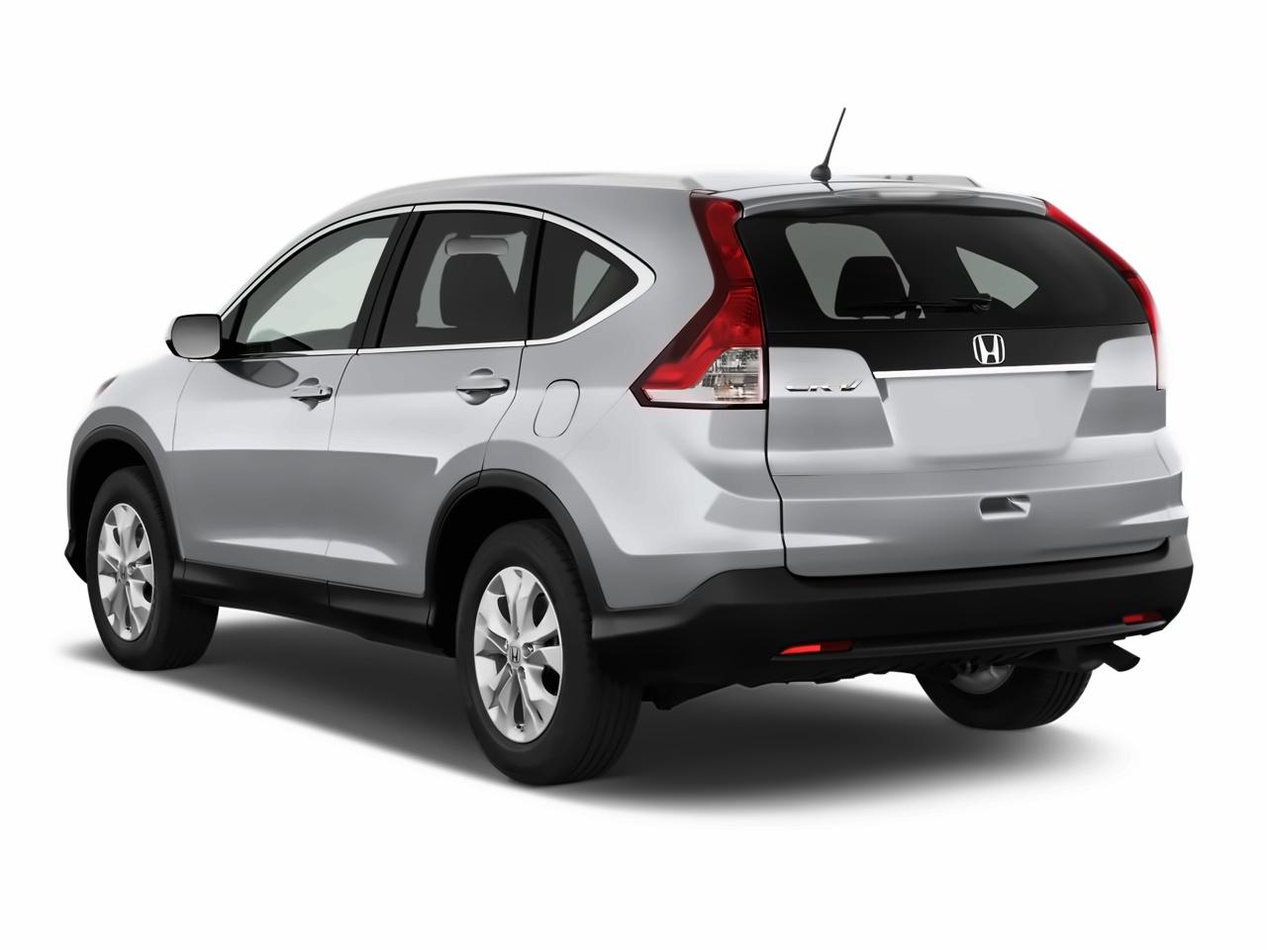Car boot: (735, 188, 1181, 587)
Fender - -F-L-: (87, 328, 188, 574)
Fender - -R-L-: (477, 317, 642, 506)
Passenger-s door - -F-L-: (166, 186, 415, 599)
Passenger-s door - -R-L-: (329, 190, 544, 603)
Rear bumper: (562, 390, 1198, 720)
Rear light - -L-: (622, 172, 777, 416)
Rear light - -R-: (1028, 192, 1176, 403)
Side bumper - -L-: (145, 543, 469, 666)
Side mirror - -L-: (145, 293, 255, 375)
